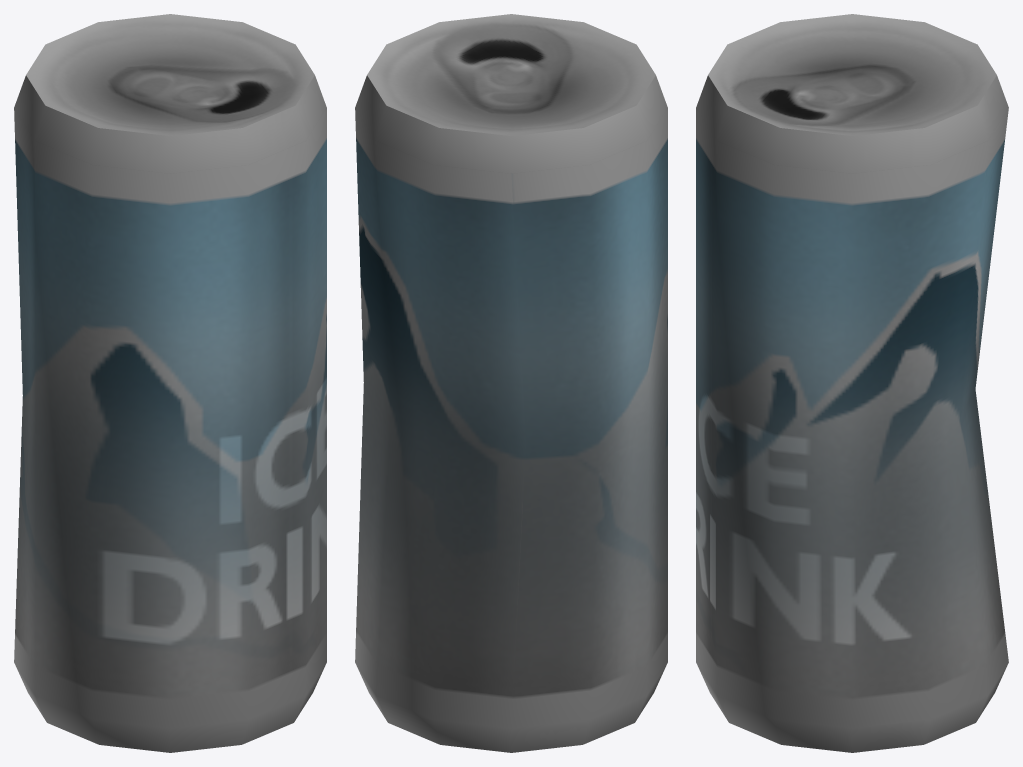
The model's file is Can_3.FBX.
3 renders of one model, left to right at view 1: azimuth 30°, elevation 25°; view 2: azimuth 150°, elevation 25°; view 3: azimuth 270°, elevation 25°, orthographic.
Visible parts, largest first — view 1: Can_2; view 2: Can_2; view 3: Can_2.
Boxes of the visible parts, x1=… form: Can_2: x1=14, y1=14, x2=326, y2=752; Can_2: x1=355, y1=14, x2=667, y2=752; Can_2: x1=696, y1=14, x2=1008, y2=752.
Size of the model in its own units: 194 by 423 by 194.
Materials: 1 (1 with a texture image).
